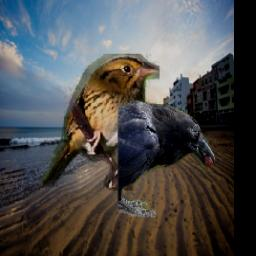Crow: (117, 101, 215, 219)
Sparrow: (39, 55, 160, 192)
